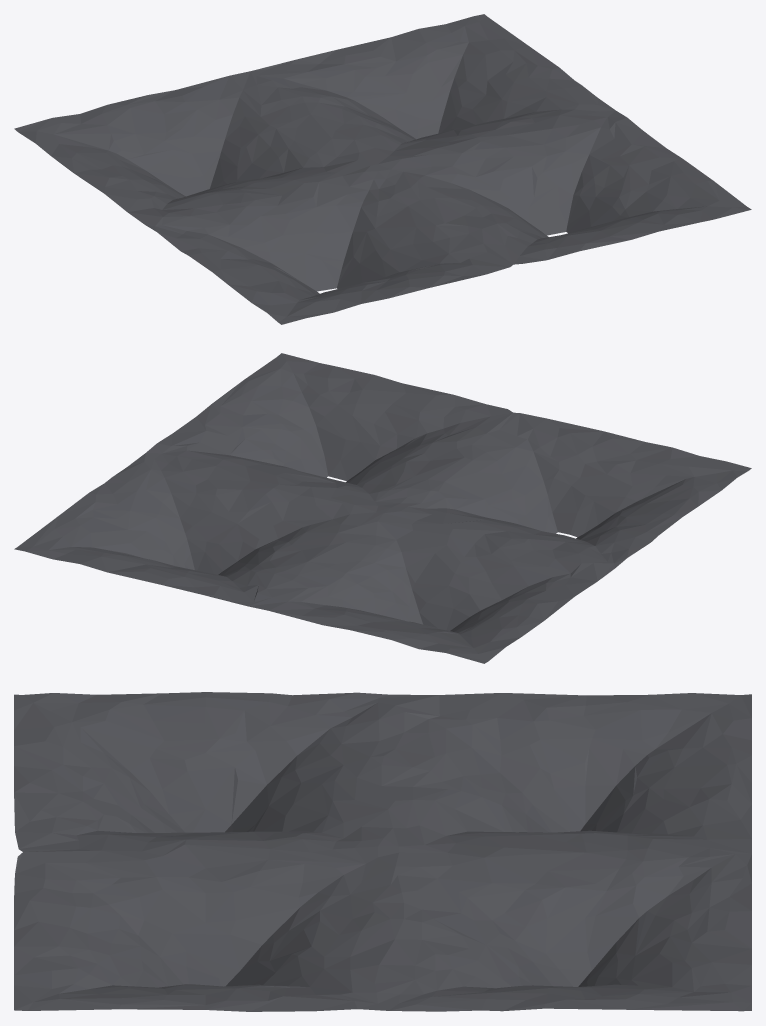
Rendered from Toit.FBX.
3 renders of one model, top to bottom at view 1: azimuth 30°, elevation 25°; view 2: azimuth 150°, elevation 25°; view 3: azimuth 270°, elevation 25°, orthographic. The views are drawn at different scales.
Parts seen in each view (by area): view 1: toit; view 2: toit; view 3: toit.
Boxes of the visible parts, x1,y1,x2,y2 form: toit: (14, 14, 751, 324); toit: (14, 353, 751, 663); toit: (14, 692, 751, 1011).
Bounding box in the file's own units: 1680 × 181 × 1656.
Materials: 1 (1 with a texture image).
